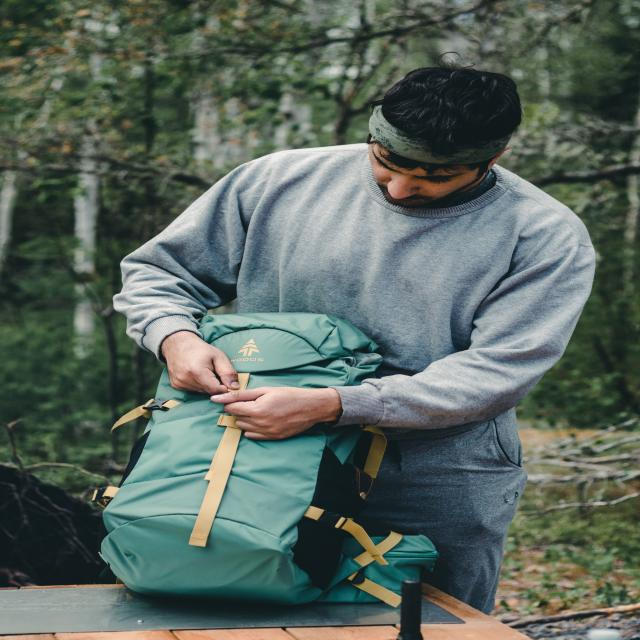backpack: (102, 315, 443, 613)
